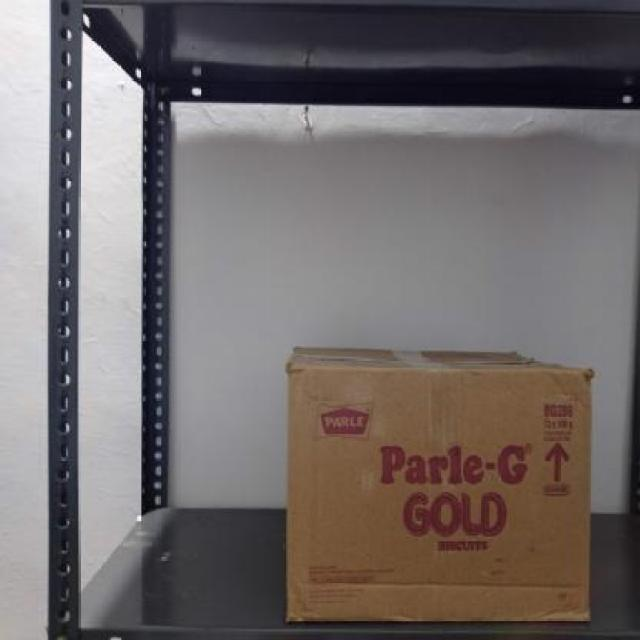box: (286, 364, 594, 624)
